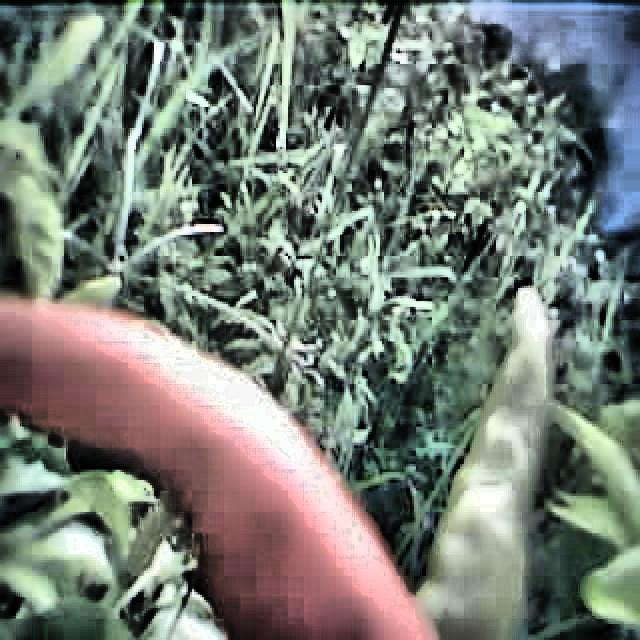Cabai: (14, 292, 410, 640)
